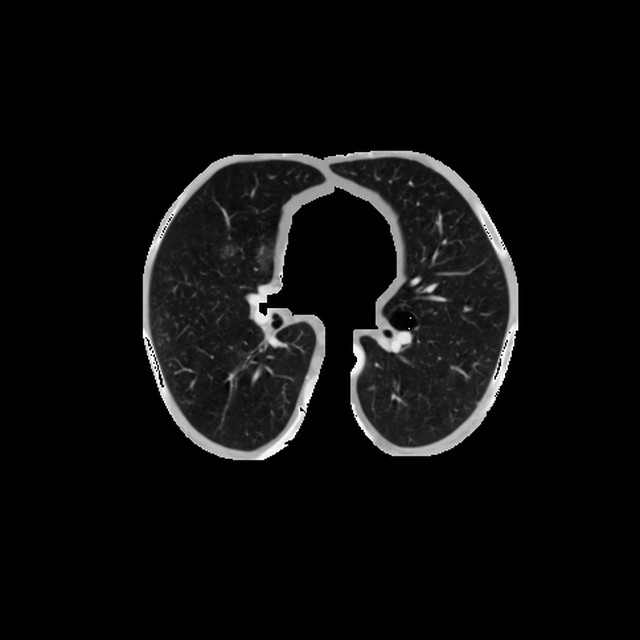PN: (253, 243, 276, 267)
